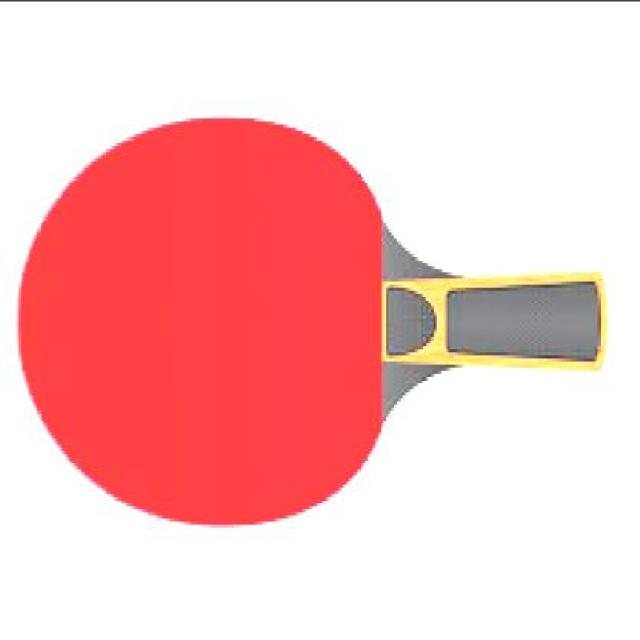table_tennis_racket: (14, 107, 414, 527)
